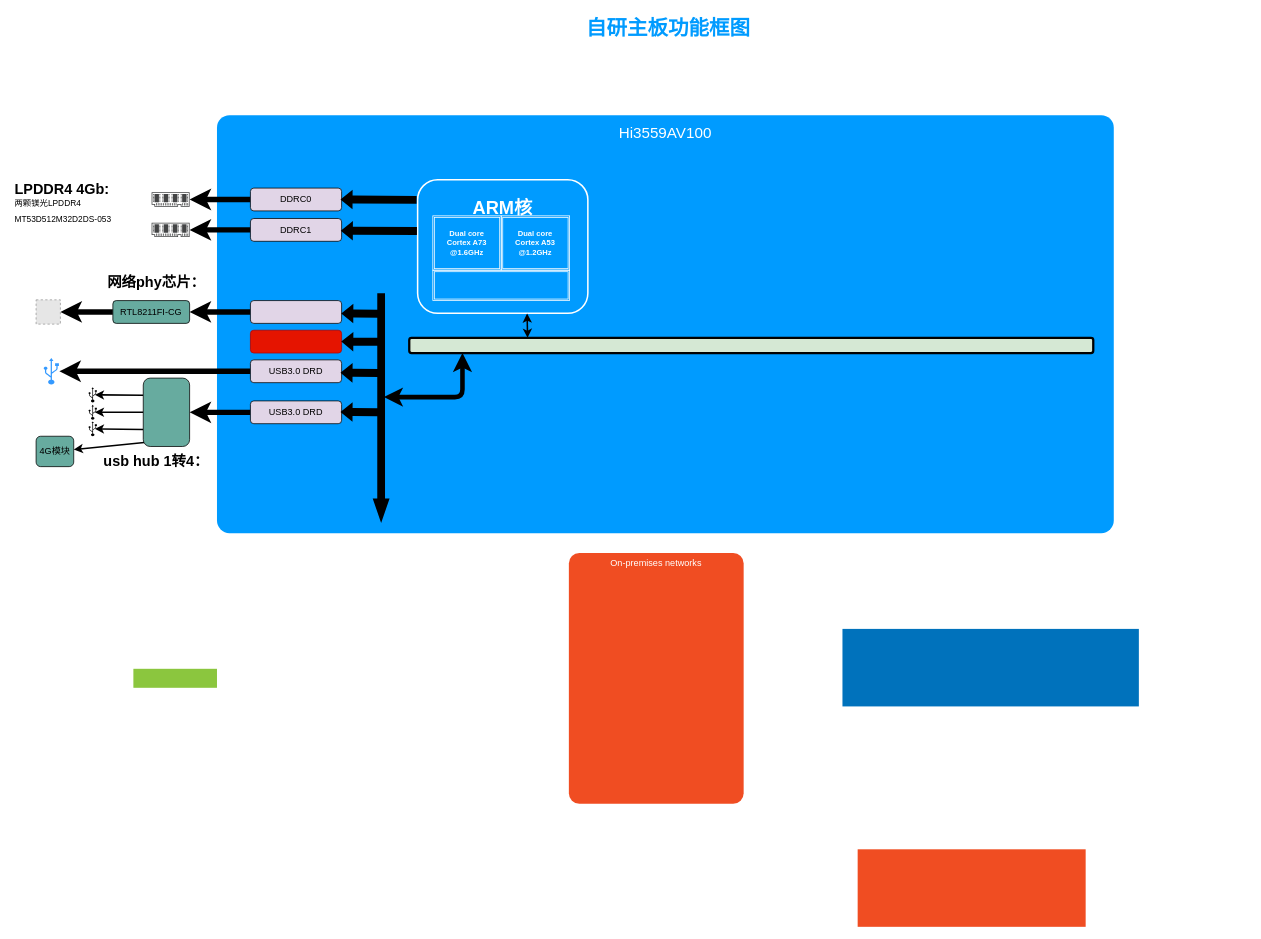
This 1261x939 diagram has some shape labels left out. Grey dashed boxes stand in for pictures. Here are the shapes that lost their labels. From the top down, the centre of each, then its label:
the point at 501,285: CortexA53 @1.2GHz
the point at 296,311: GMAC0
the point at 296,341: GMAC1
the point at 751,345: NOC BUS
the point at 166,411: USB2514
